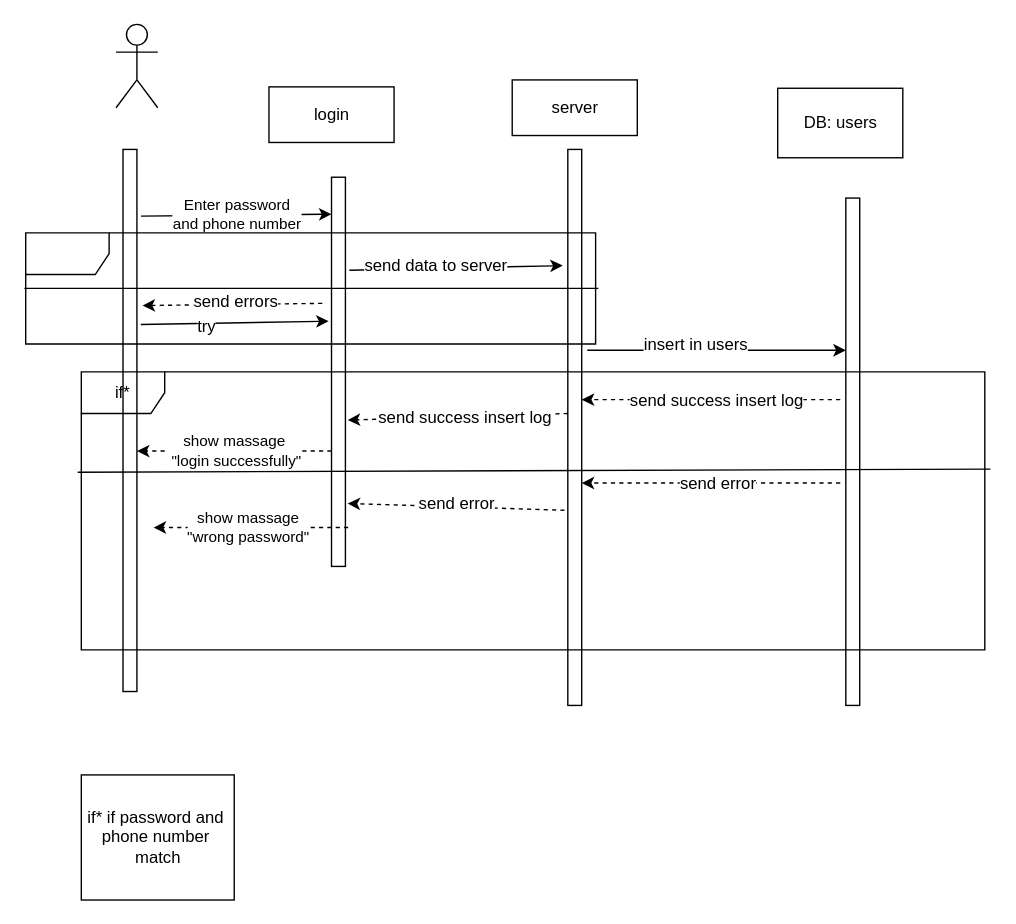
Some shapes in this 1016 by 924 pixel diagram are drawn without their labels. The centre of each missing label's shape, as x and y in pixels:
customer: (136,65)
if data is valid: (310,287)
